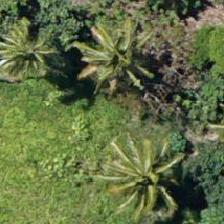coconut_tree: (72, 12, 162, 102), (96, 134, 186, 223)
